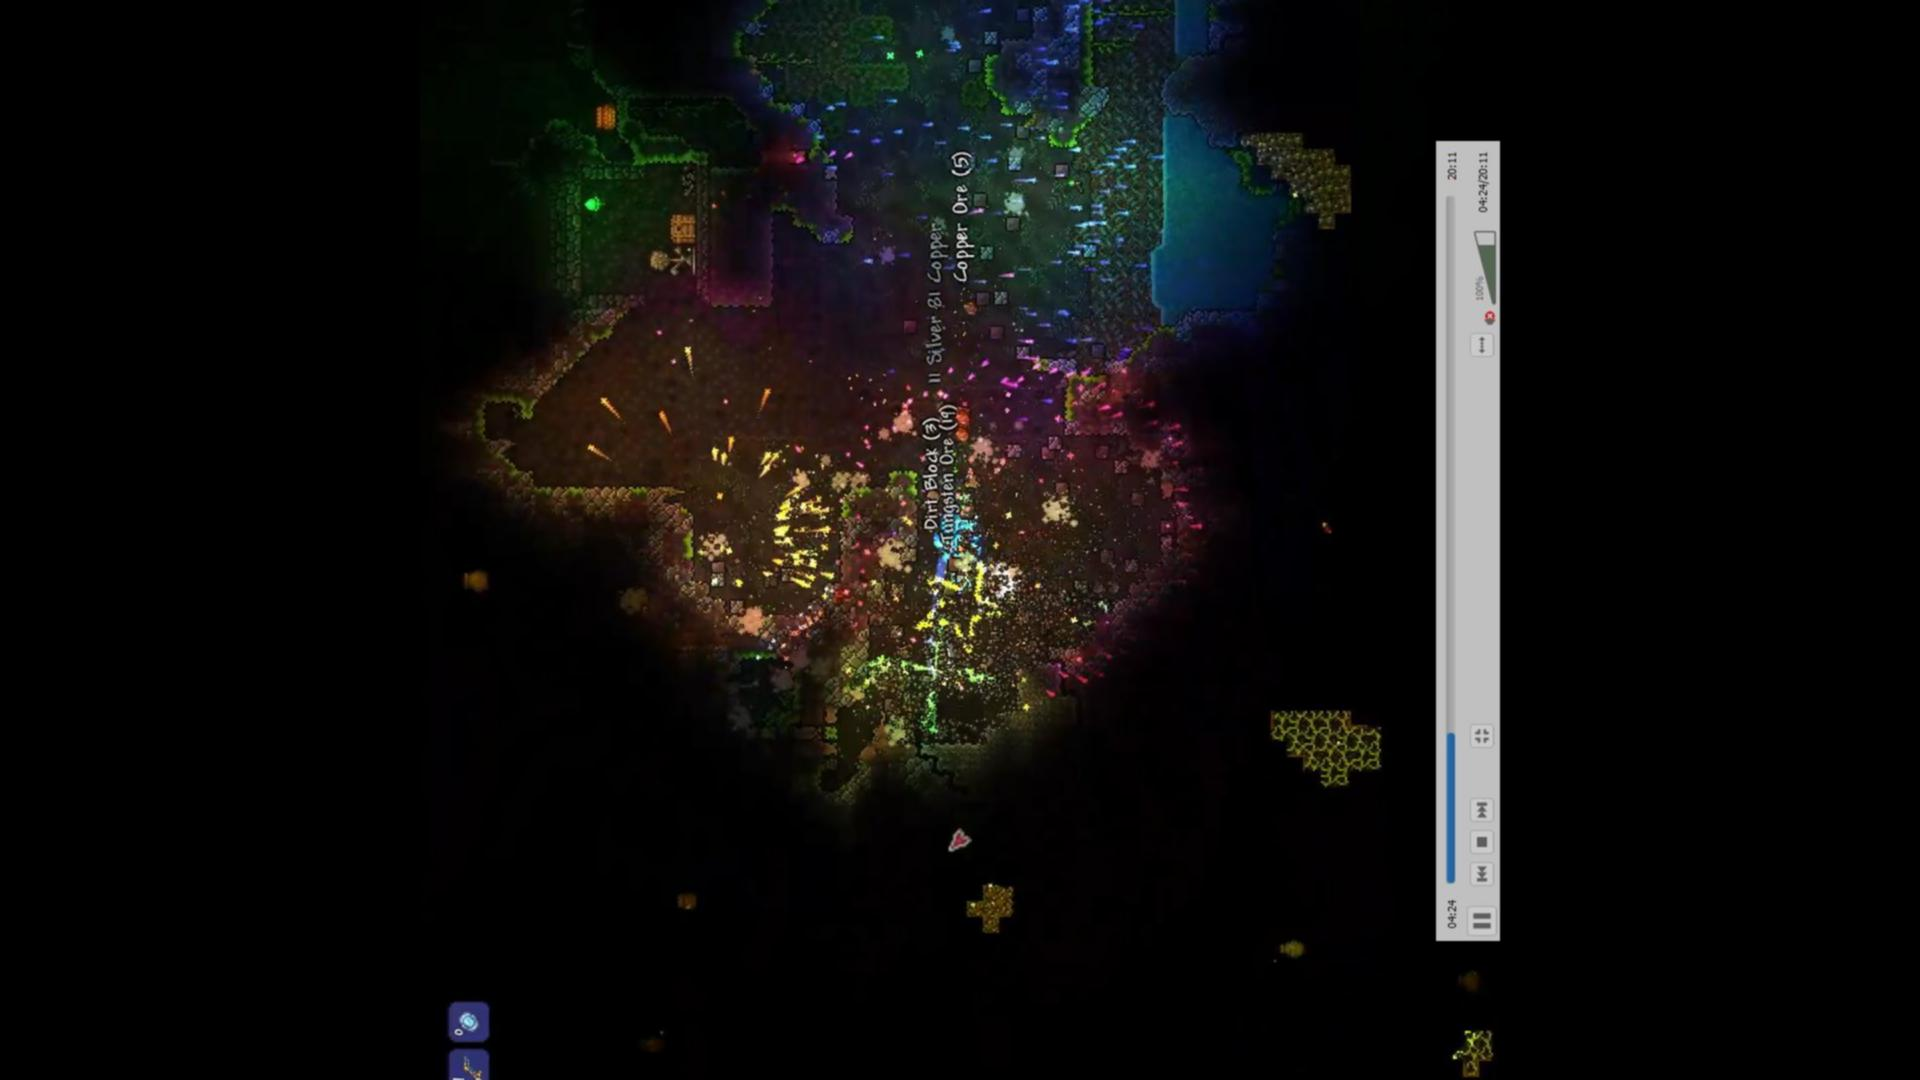chest: (665, 208, 698, 245)
mirror: (459, 1011, 480, 1036)
